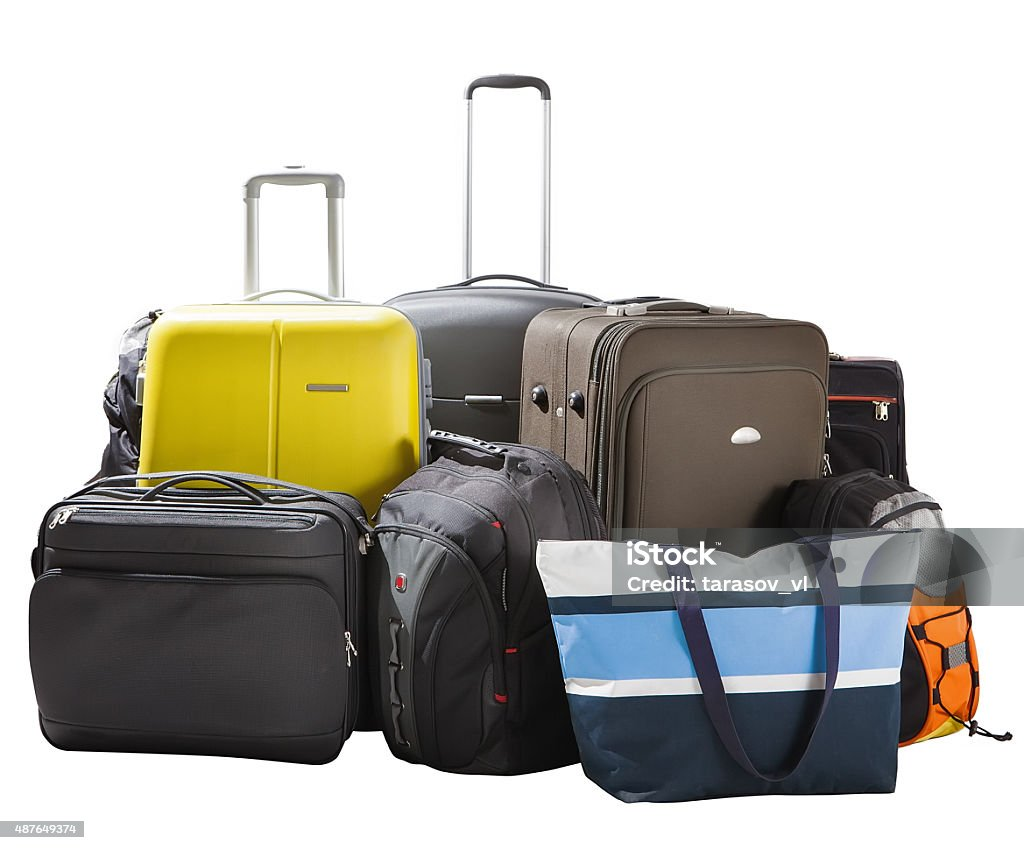Bag: (538, 526, 937, 819), (138, 158, 430, 544), (20, 476, 367, 767), (512, 290, 839, 558), (364, 430, 599, 791), (392, 68, 590, 459)
Handle: (660, 544, 844, 790), (460, 70, 559, 294), (230, 160, 351, 316)
Straps: (668, 538, 840, 782)
